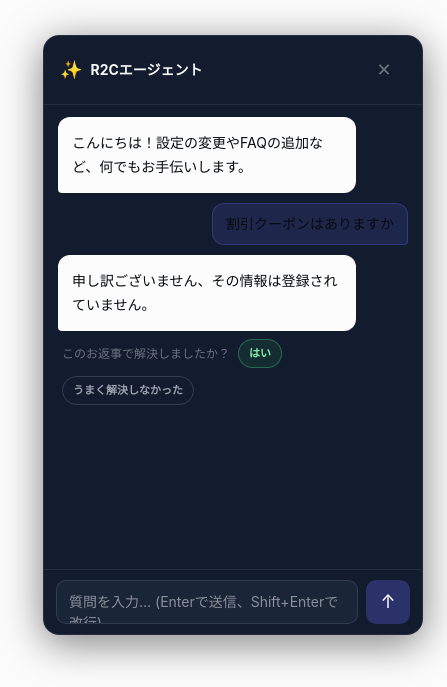
AdminAgentPanel — 解決確認プロンプト › 「うまく解決しなかった」クリックで質問文が feedback として送信され、確認文言に変わる
Click the button "うまく解決しなかった": point(128, 390) x1=62 y1=376 x2=194 y2=405
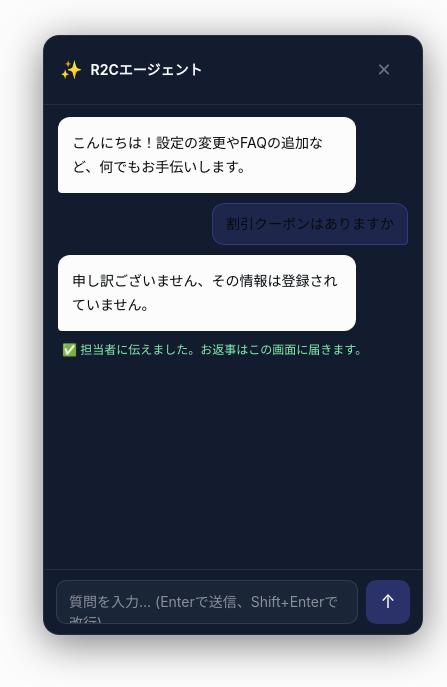
Now the text "✅ 担当者に伝えました。お返事はこの画面に届きます。" is shown, box x1=58 y1=337 x2=408 y2=362
